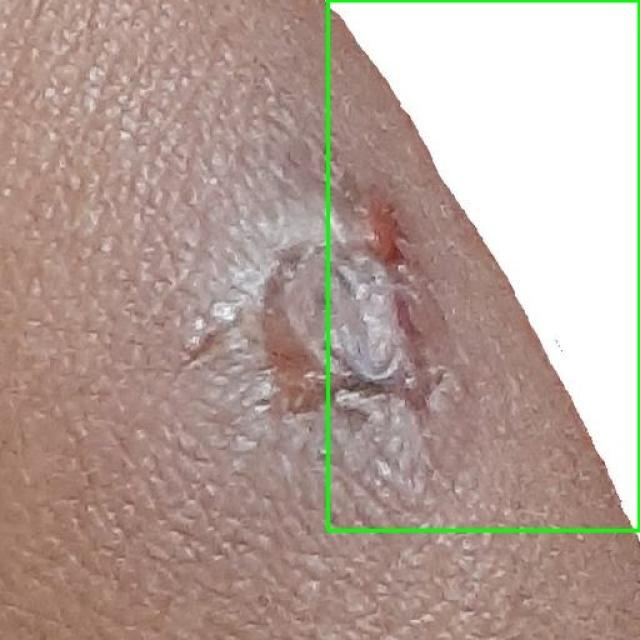Contact Dermatitis: (328, 0, 639, 531)
